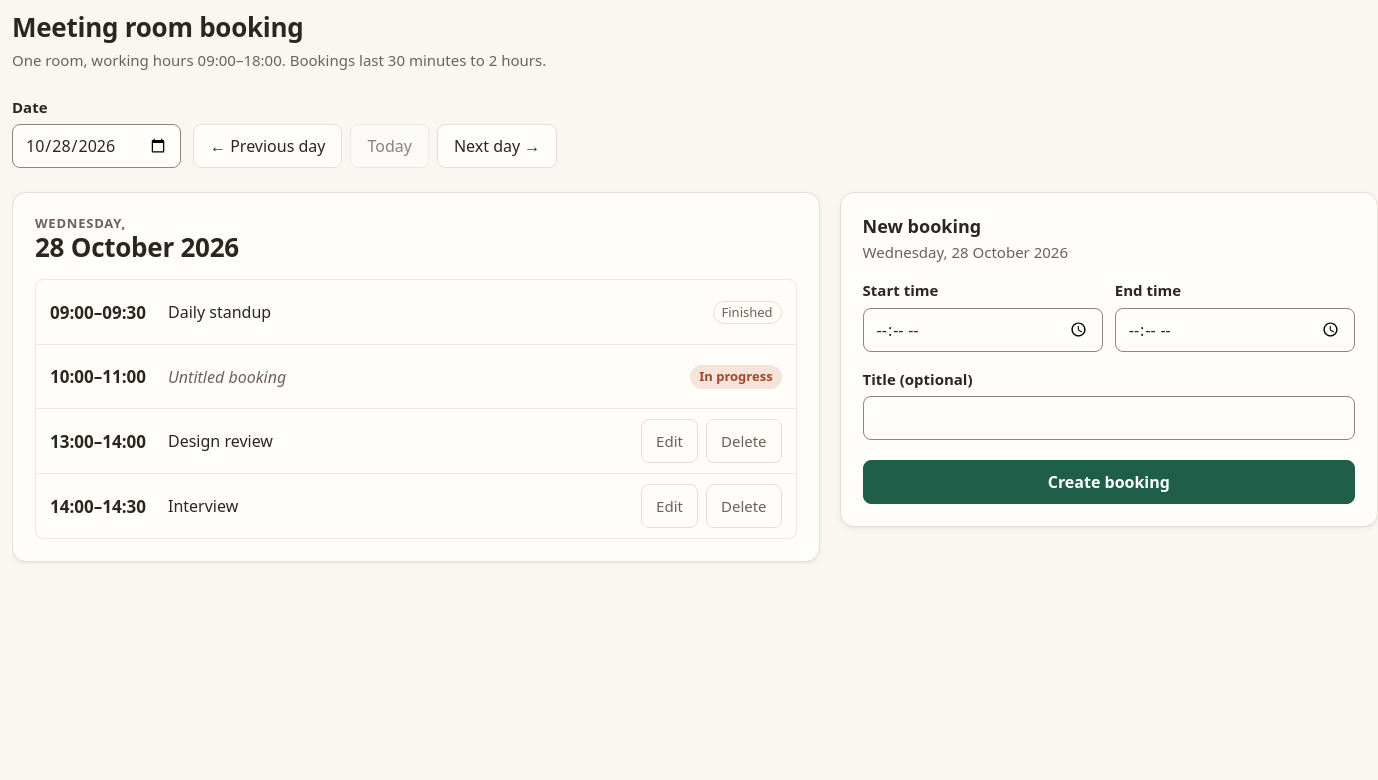
Test: deleting from the edit form › is also available in the narrow list layout
Expected: the list is shown, 35,279 -> 797,539
Click the button with aria-label "Edit Design review, 13:00–14:00": (670,441) 641,419 -> 698,463
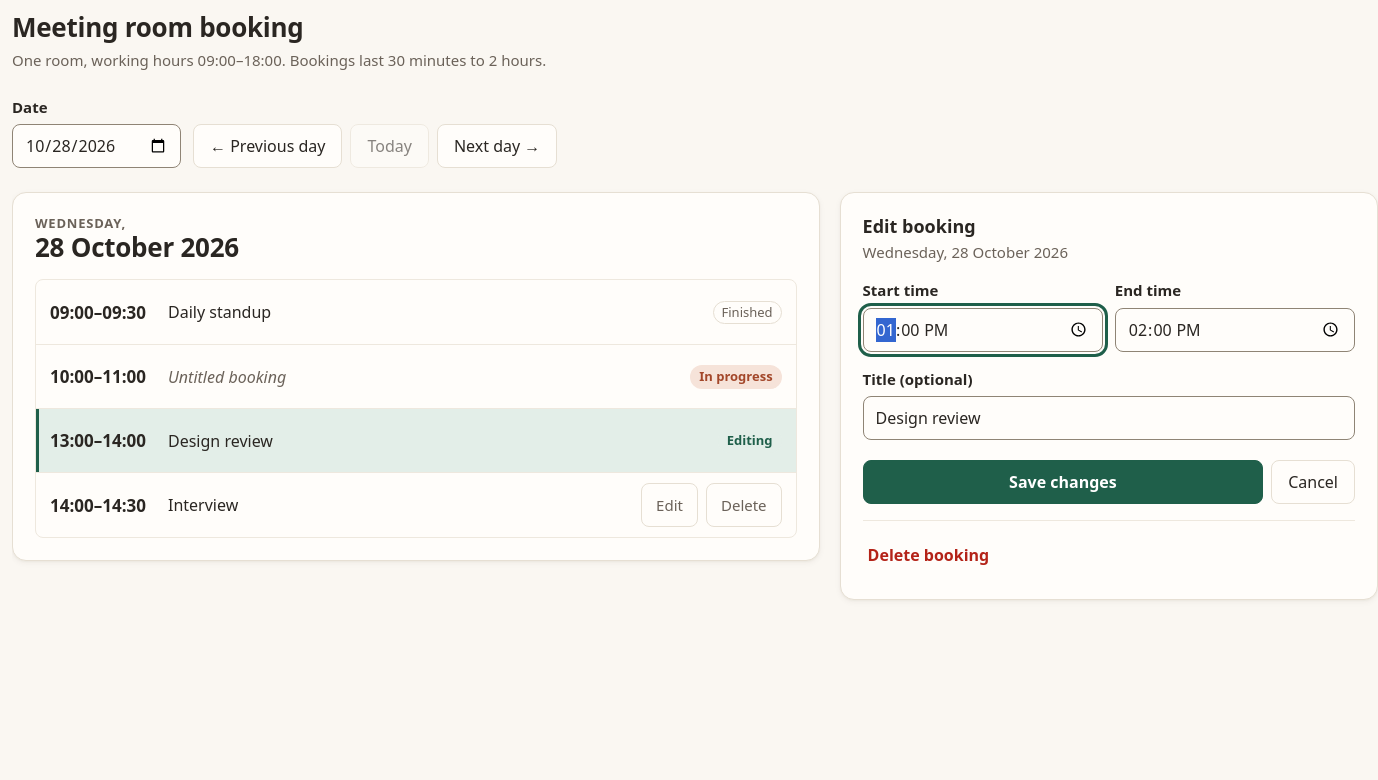
Expected: the button "Delete booking" is shown, 863,533 -> 994,577
